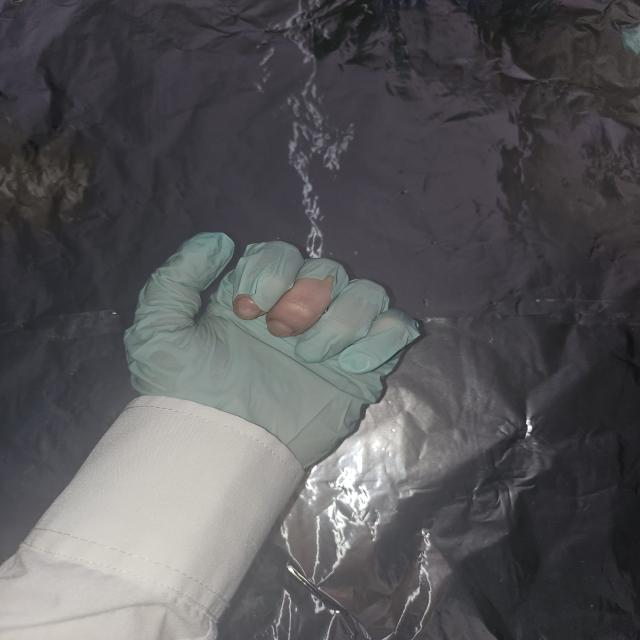gloves_damaged: (125, 231, 425, 474)
